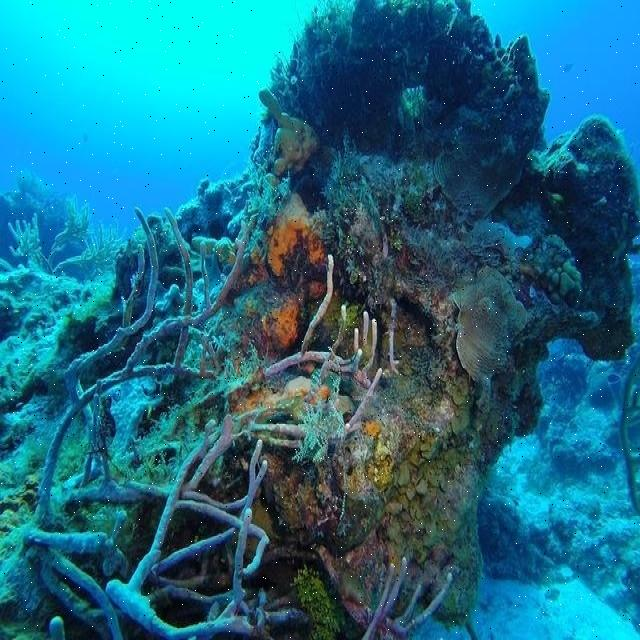reefs: (0, 206, 382, 639), (8, 198, 129, 277), (363, 559, 453, 639)
